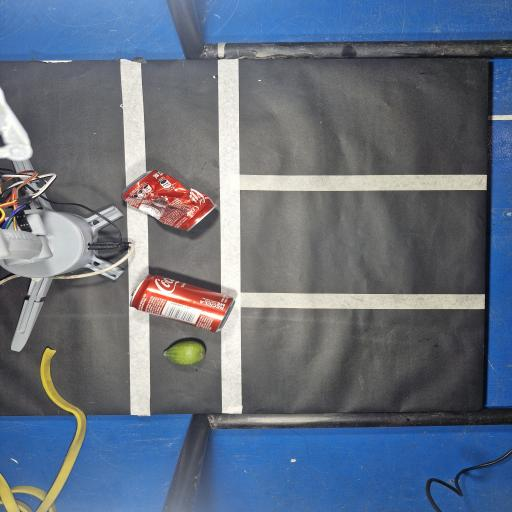higo: (164, 340, 205, 365)
lata: (130, 275, 234, 332)
lata_defectuoso: (122, 171, 215, 230)
